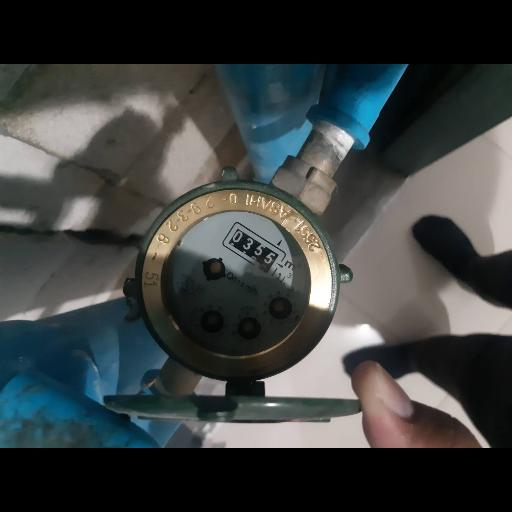0: (229, 229, 247, 249)
3: (237, 235, 257, 256)
5: (256, 248, 279, 274), (248, 241, 269, 263)
border_water_meter_number: (221, 221, 287, 277)
